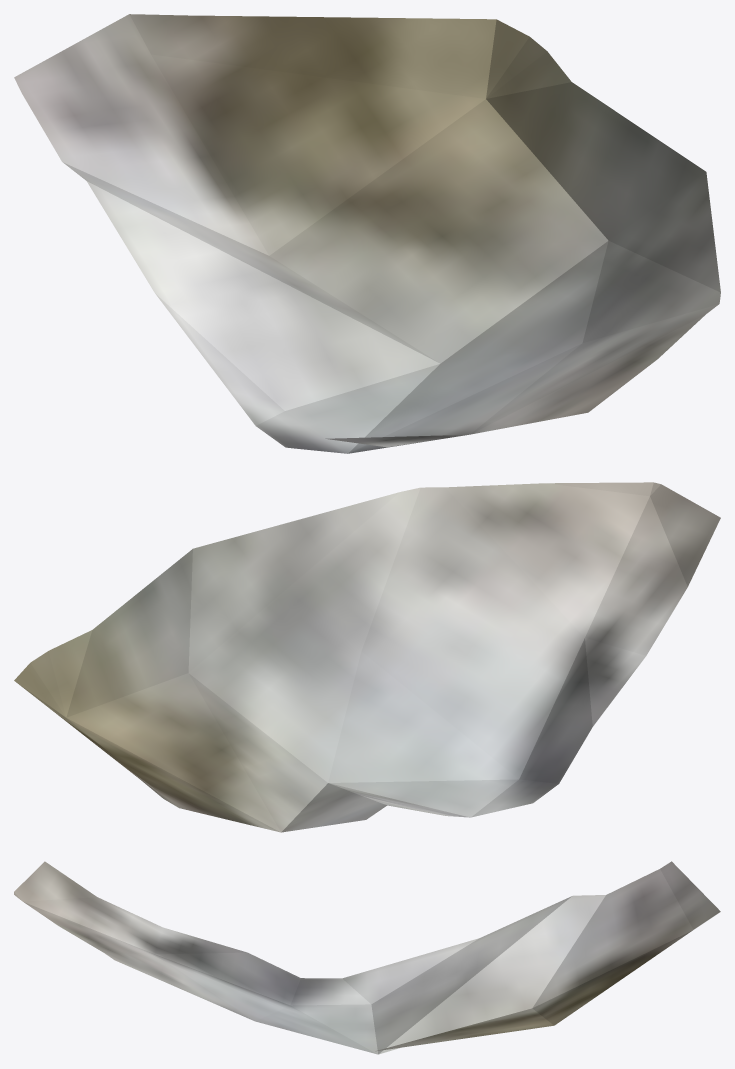
3 renders of one model, top to bottom at view 1: azimuth 30°, elevation 25°; view 2: azimuth 150°, elevation 25°; view 3: azimuth 270°, elevation 25°, orthographic. The views are drawn at different scales.
Bounding box in the file's own units: 0.6373 × 0.2628 × 1.33.
1 material, 1 textured.
